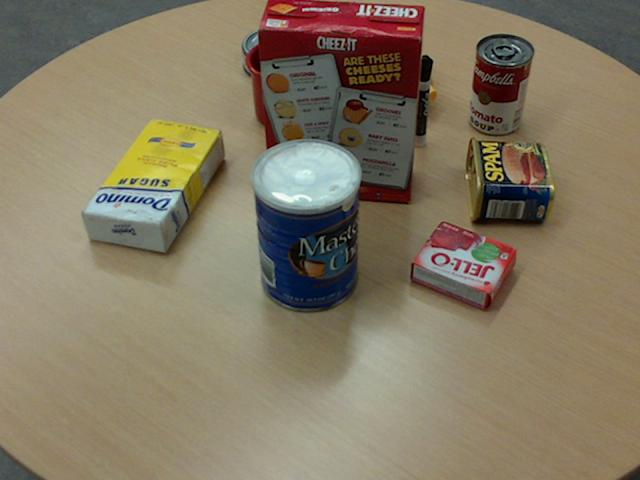cracker_box: (255, 0, 424, 201)
gelatin_box: (410, 220, 518, 309)
large_marker: (410, 55, 433, 146)
master_chef_can: (250, 138, 360, 312)
mug: (244, 37, 323, 129)
mustard_bottle: (314, 9, 436, 102)
potted_meat_can: (464, 136, 553, 221)
sugar_box: (80, 117, 223, 252)
tomato_soup_can: (468, 33, 533, 134)
tuna_fish_can: (241, 25, 305, 80)
